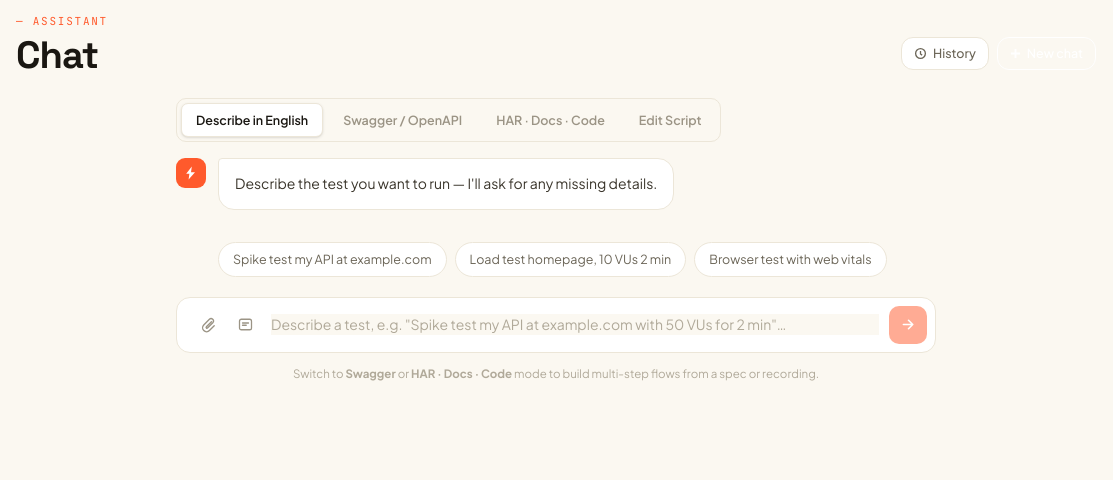
Test: ChatPage › sends a message and renders the assistant reply on needsClarification
Replace the text in the field with placeholder "Describe a test" with "I want to load test something". click: [575, 325]
box: [271,314,879,335]
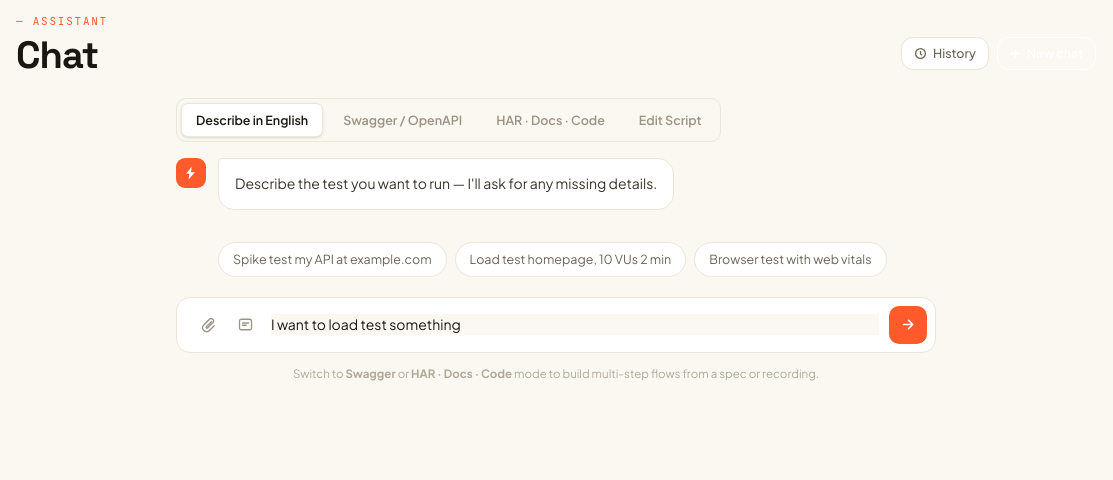
Click the button named "send". click: [908, 325]
box: [889,306,927,344]
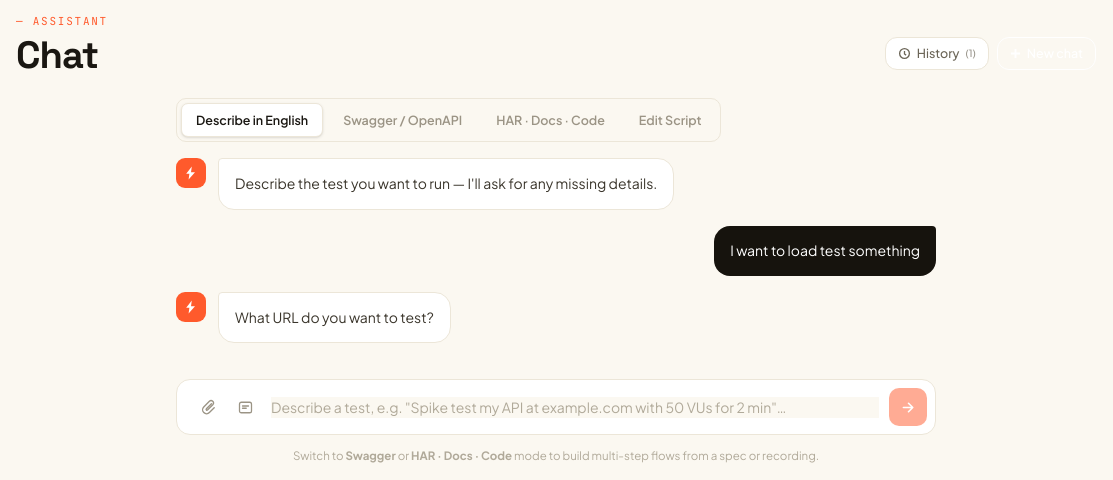
expect the text "What URL do you want to test?" is shown: met, box [218,292,451,343]
